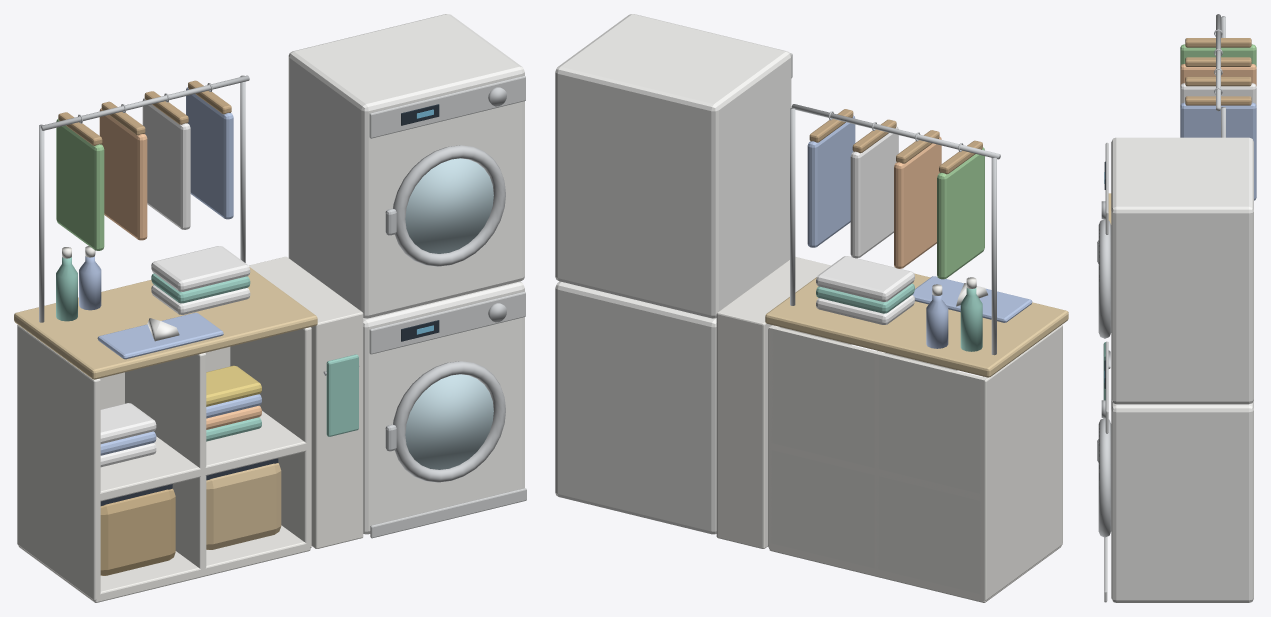
The model's file is laundryCenter.glb.
3 views of the same model, side by side, from view 1: azimuth 30°, elevation 25°; view 2: azimuth 150°, elevation 25°; view 3: azimuth 270°, elevation 25° (orthographic). The views are drawn at different scales.
Visible parts, largest first — view 1: body, door; view 2: body; view 3: body, door.
Part boxes in pixels (x1,y1,x2,y2): body: (14, 14, 526, 602); door: (385, 361, 505, 482); body: (555, 14, 1068, 602); body: (1097, 14, 1256, 602); door: (1097, 418, 1111, 537).
Size of the model in its own units: 1.82 by 1.74 by 0.625.
